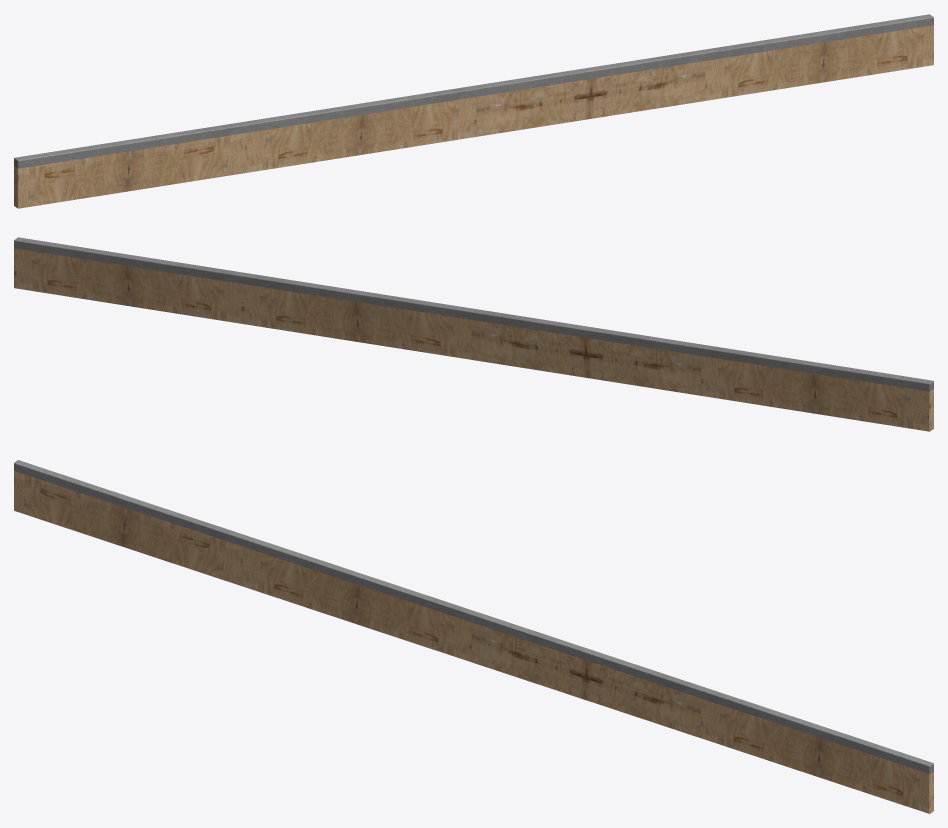
Rendered from railC.fbx.
3 views of the same model, one above another, from view 1: azimuth 30°, elevation 25°; view 2: azimuth 150°, elevation 25°; view 3: azimuth 330°, elevation 25° (orthographic).
Visible parts, largest first — view 1: railCbase, railCcolider; view 2: railCbase, railCcolider; view 3: railCbase, railCcolider.
Boxes of the visible parts, x1=… form: railCbase: x1=14, y1=25, x2=933, y2=208; railCcolider: x1=14, y1=14, x2=933, y2=168; railCbase: x1=14, y1=248, x2=933, y2=431; railCcolider: x1=14, y1=237, x2=933, y2=391; railCbase: x1=14, y1=471, x2=933, y2=813; railCcolider: x1=14, y1=460, x2=933, y2=773.
Bounding box in the file's own units: 1200 × 160 × 10.
